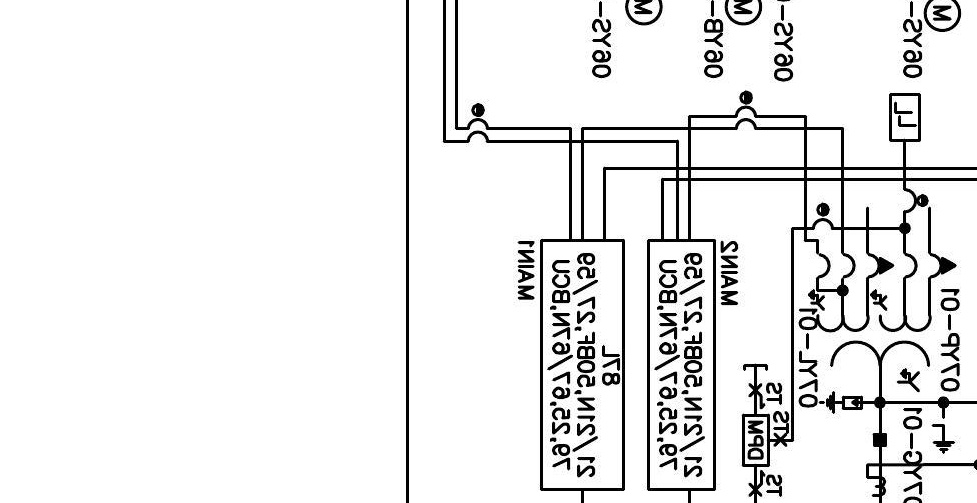115_gs: (931, 414, 956, 455)
115_la: (818, 390, 863, 415)
115_vt_3p: (808, 252, 958, 393)
DPM: (742, 413, 770, 467)
LL: (889, 92, 922, 143)
